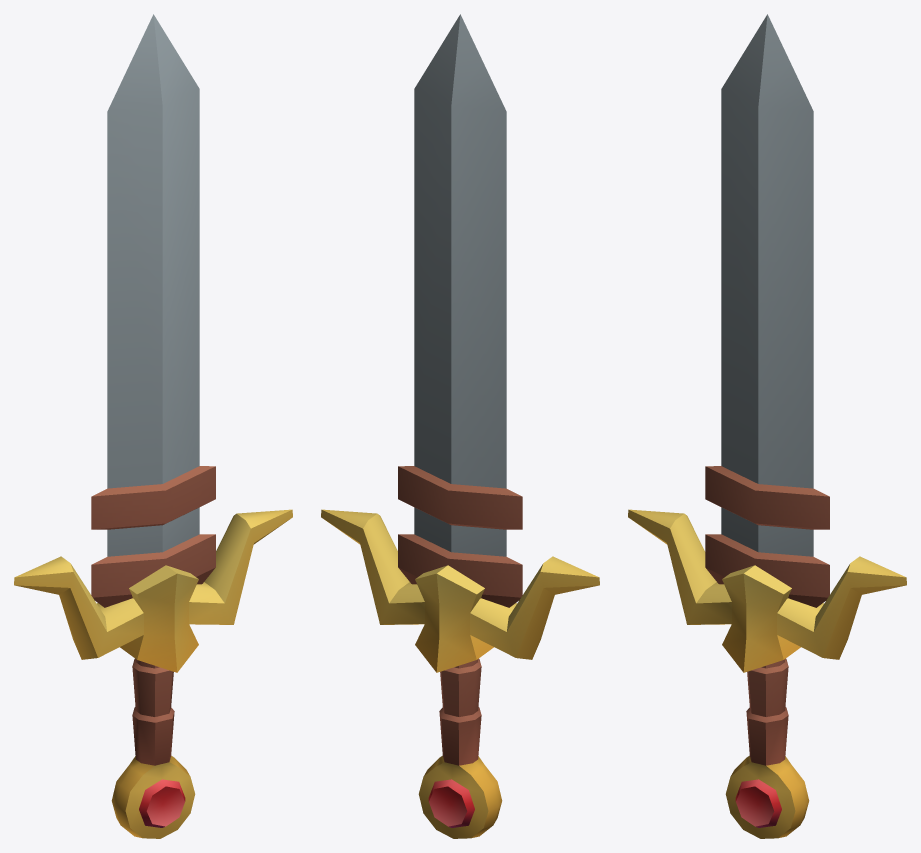
The picture shows the model from 3 angles, left to right: view 1: azimuth 30°, elevation 25°; view 2: azimuth 150°, elevation 25°; view 3: azimuth 330°, elevation 25°; orthographic projection.
Visible parts, largest first — view 1: sword_2handed_color; view 2: sword_2handed_color; view 3: sword_2handed_color.
Boxes of the visible parts, left/top/right/bottom form: sword_2handed_color: left=14, top=14, right=292, bottom=838; sword_2handed_color: left=321, top=14, right=599, bottom=838; sword_2handed_color: left=628, top=14, right=906, bottom=838.
Size of the model in its own units: 0.839 by 2.37 by 0.248.
Materials: 1 (1 with a texture image).
